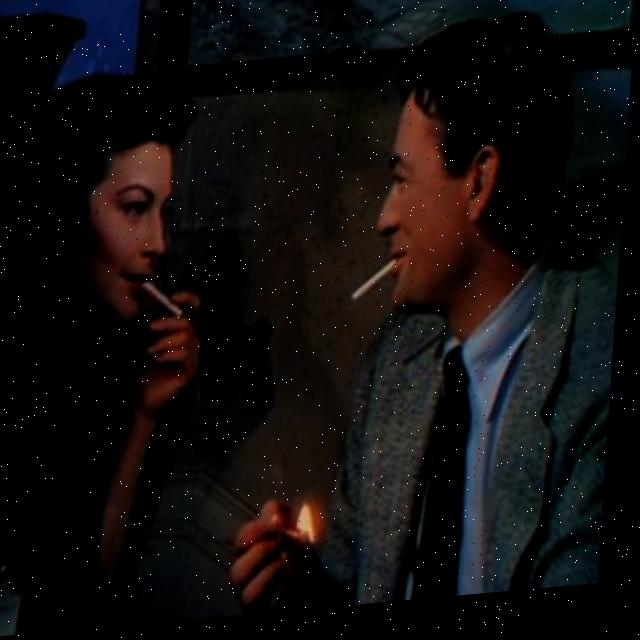cigarette: (352, 263, 407, 316), (143, 275, 194, 325)
